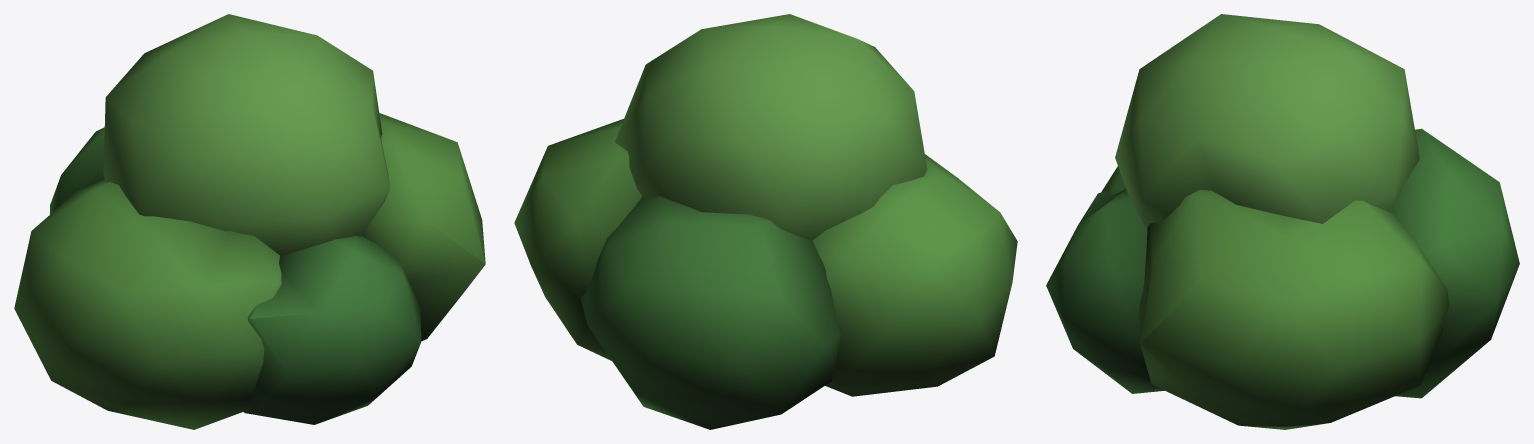
Rendered from PB_Bush.glb.
3 views of the same model, side by side, from view 1: azimuth 30°, elevation 25°; view 2: azimuth 150°, elevation 25°; view 3: azimuth 270°, elevation 25° (orthographic).
Visible parts, largest first — view 1: PB_Bush_1_SmoothPlastic; view 2: PB_Bush_1_SmoothPlastic; view 3: PB_Bush_1_SmoothPlastic.
Part boxes in pixels (x1,y1,x2,y2): PB_Bush_1_SmoothPlastic: (14,14,485,429); PB_Bush_1_SmoothPlastic: (514,14,1017,429); PB_Bush_1_SmoothPlastic: (1046,14,1519,429).
Size of the model in its own units: 4.22 by 3.23 by 3.84.
